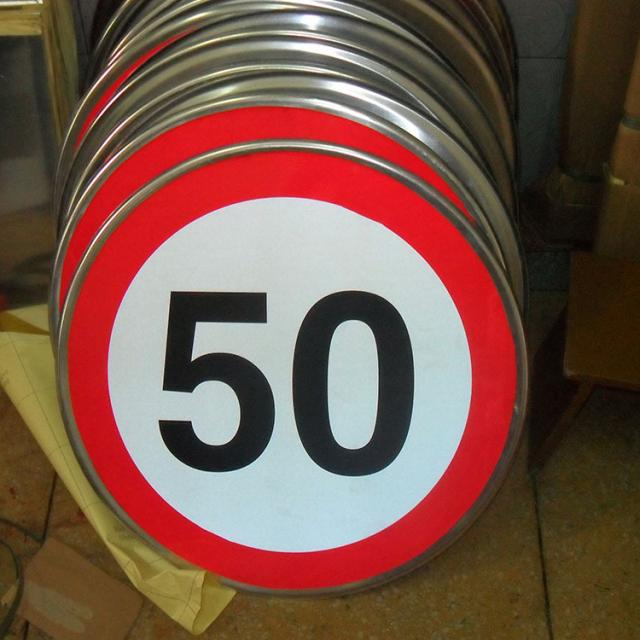speed limit 50: (54, 141, 530, 599)
